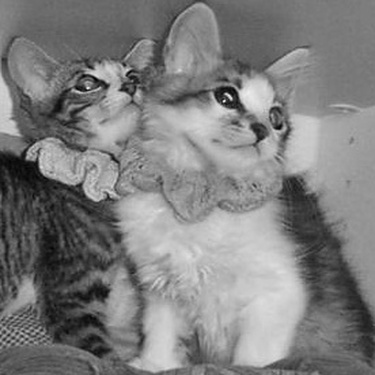cat: (111, 3, 370, 368), (1, 33, 156, 369)
